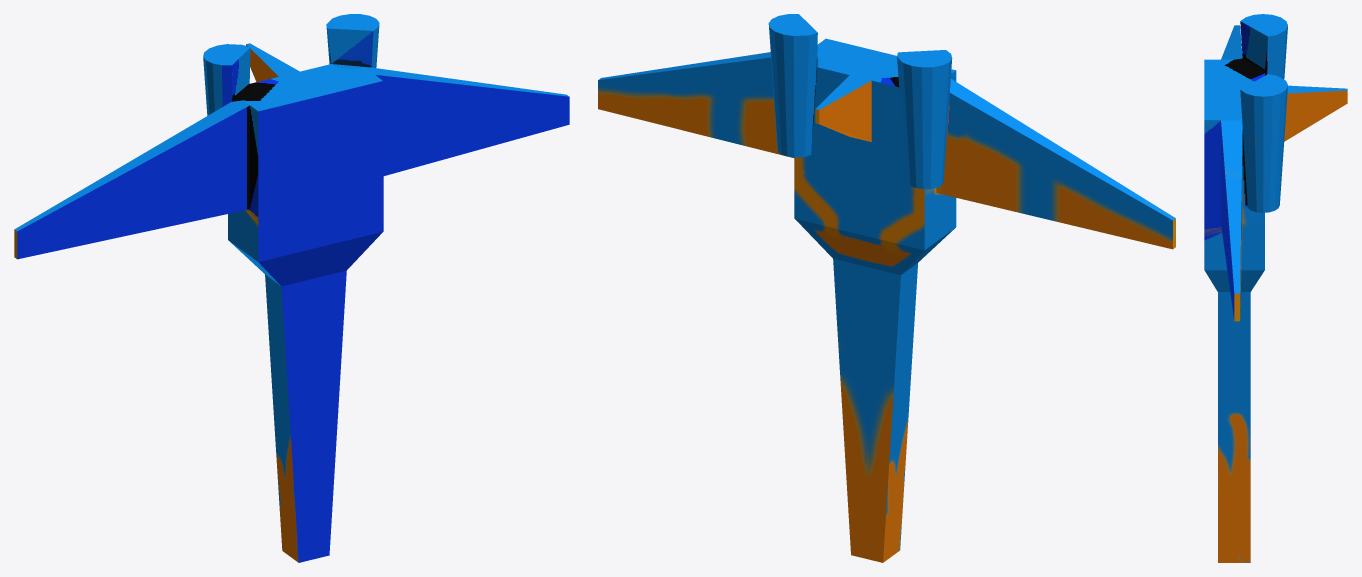
The model's file is enemy3.fbx.
The picture shows the model from 3 angles, left to right: view 1: azimuth 30°, elevation 25°; view 2: azimuth 150°, elevation 25°; view 3: azimuth 270°, elevation 25°; orthographic projection. The views are drawn at different scales.
Visible parts, largest first — view 1: Enemy3_Mesh; view 2: Enemy3_Mesh; view 3: Enemy3_Mesh.
Boxes of the visible parts, x1,y1,x2,y2 form: Enemy3_Mesh: [14, 14, 569, 562]; Enemy3_Mesh: [598, 14, 1175, 562]; Enemy3_Mesh: [1204, 14, 1347, 562].
Bounding box in the file's own units: 186 × 162 × 41.88.
